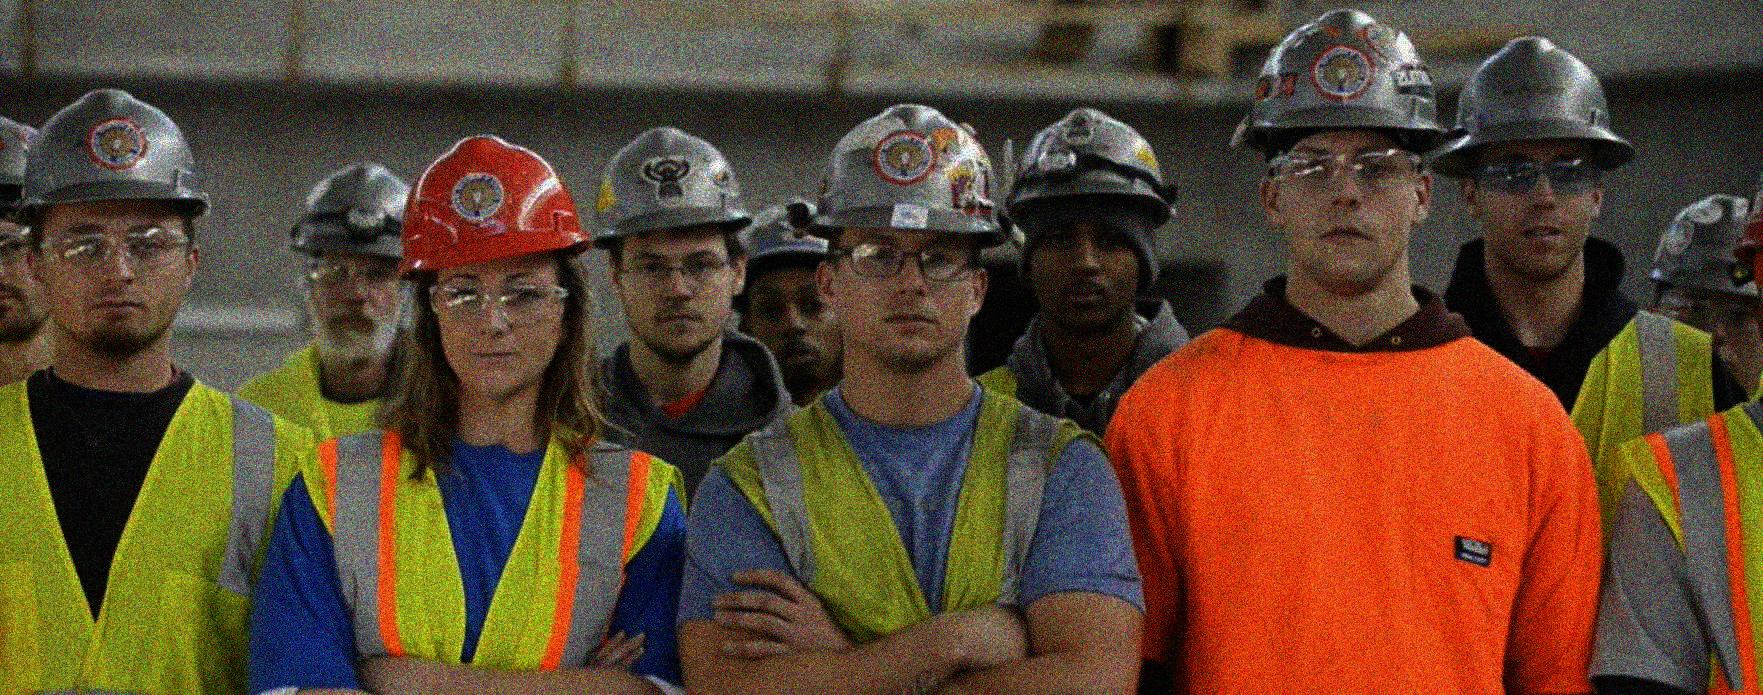helmet: (1224, 4, 1452, 295), (1422, 31, 1640, 286), (21, 82, 215, 351), (399, 133, 595, 397), (813, 97, 1011, 351), (1003, 103, 1177, 330), (584, 124, 750, 356), (281, 157, 423, 358), (733, 195, 859, 387), (1649, 184, 1763, 395), (1, 112, 84, 346), (1735, 181, 1763, 364)
